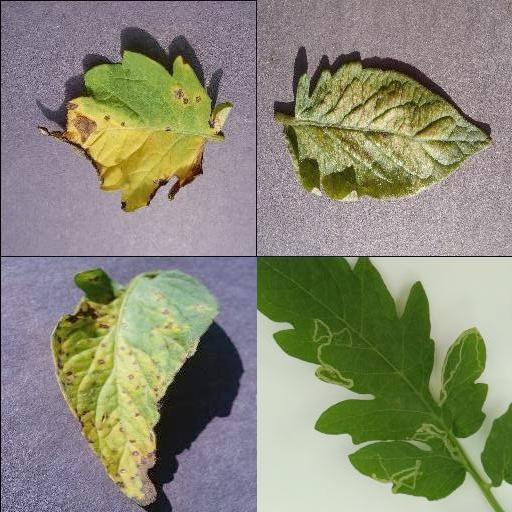Leaf Miner: (256, 256, 488, 503)
Septoria: (50, 270, 219, 506), (37, 47, 233, 211)
Spider Mites: (295, 62, 493, 204)
